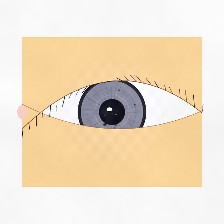pinguecula_lesion: (158, 97, 192, 125)
